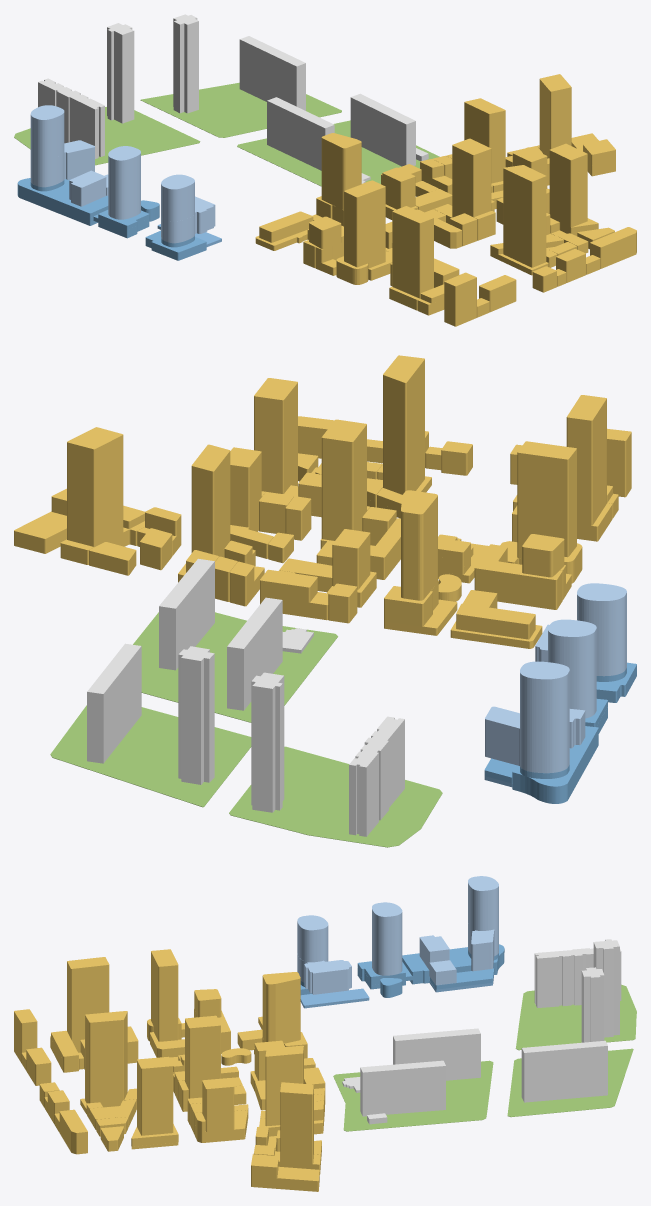
Rendered from giraffe-gltf-export_buildings.glb.
The picture shows the model from 3 angles, top to bottom: view 1: azimuth 30°, elevation 25°; view 2: azimuth 150°, elevation 25°; view 3: azimuth 270°, elevation 25°; orthographic projection. The views are drawn at different scales.
Parts seen in each view (by area): view 1: 88888, 87824, 88354, 87789, 88356, 87612, 88355, 87822, 87750, 88887, 88677, 88357 (+35 smaller); view 2: 88887, 88888, 87649, 89031, 87612, 87824, 87750, 88358, 88677, 88354, 88357, 87822 (+39 smaller); view 3: 88354, 88356, 89031, 87824, 88887, 88355, 88677, 87789, 87822, 88888, 87649, 87618 (+30 smaller).
Boxes of the visible parts, bbox=[...] form: 88888: bbox=[140, 82, 341, 137]; 87824: bbox=[503, 165, 546, 267]; 88354: bbox=[239, 36, 305, 110]; 87789: bbox=[392, 206, 433, 298]; 88356: bbox=[350, 93, 415, 166]; 87612: bbox=[344, 180, 385, 267]; 88355: bbox=[267, 97, 334, 170]; 87822: bbox=[549, 143, 587, 227]; 87750: bbox=[452, 138, 491, 217]; 88887: bbox=[14, 107, 200, 165]; 88677: bbox=[38, 78, 104, 158]; 88357: bbox=[107, 23, 134, 123]; 88887: bbox=[229, 746, 442, 847]; 88888: bbox=[50, 705, 251, 807]; 87649: bbox=[67, 427, 123, 546]; 89031: bbox=[133, 612, 337, 722]; 87612: bbox=[517, 441, 576, 557]; 87824: bbox=[383, 355, 424, 494]; 87750: bbox=[321, 419, 366, 540]; 88358: bbox=[178, 646, 214, 784]; 88677: bbox=[349, 716, 404, 836]; 88354: bbox=[87, 643, 141, 763]; 88357: bbox=[251, 672, 284, 812]; 87822: bbox=[254, 378, 297, 493]; 88354: bbox=[521, 1040, 607, 1102]; 88356: bbox=[360, 1060, 445, 1116]; 89031: bbox=[333, 1060, 493, 1131]; 87824: bbox=[85, 1011, 127, 1107]; 88887: bbox=[515, 984, 636, 1050]; 88355: bbox=[393, 1028, 480, 1080]; 88677: bbox=[534, 948, 621, 1008]; 87789: bbox=[67, 957, 109, 1043]; 87822: bbox=[137, 1056, 173, 1135]; 88888: bbox=[507, 1048, 633, 1117]; 87649: bbox=[280, 1082, 313, 1163]; 87618: bbox=[262, 972, 300, 1043].
Bounding box in the file's own units: 547 × 98.6 × 612.
